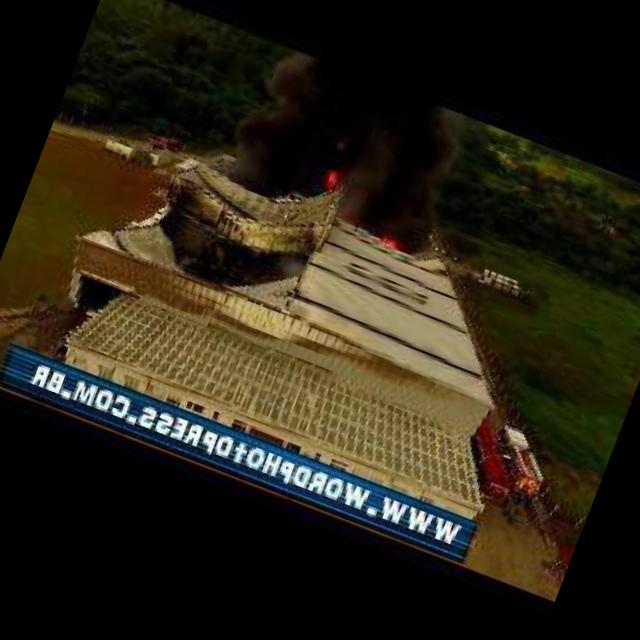fire: (322, 170, 338, 192), (382, 238, 399, 250)
smoke: (205, 40, 476, 258)
